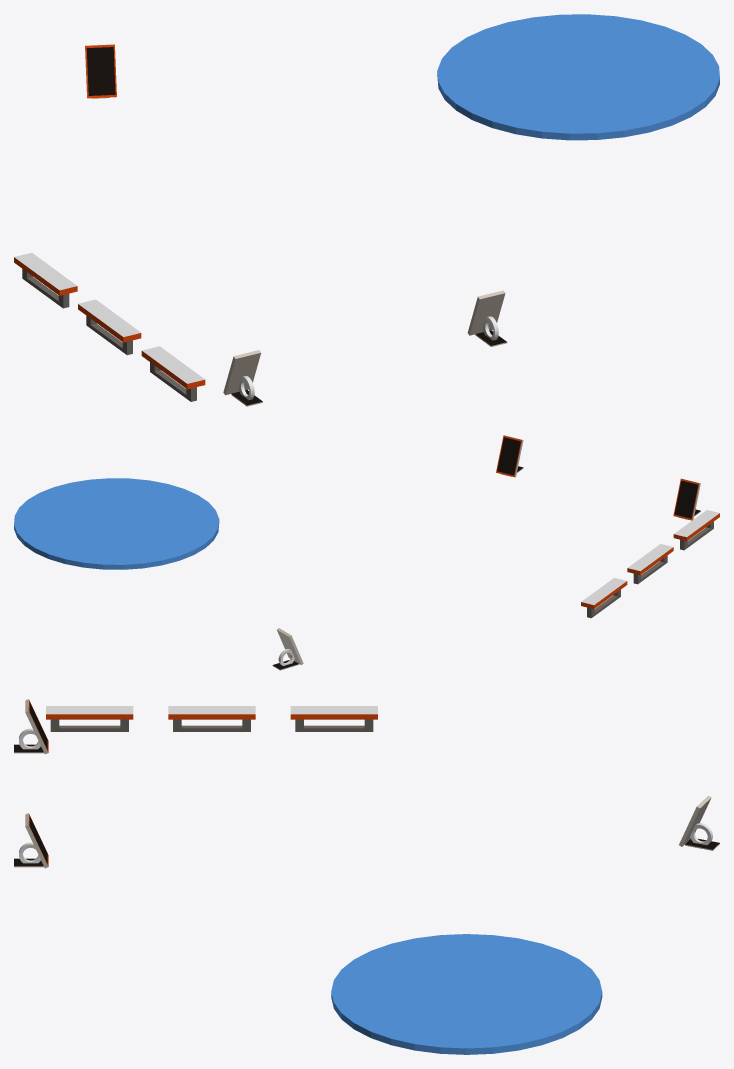
The model's file is pocter down.fbx.
The picture shows the model from 3 angles, top to bottom: view 1: azimuth 30°, elevation 25°; view 2: azimuth 150°, elevation 25°; view 3: azimuth 270°, elevation 25°; orthographic projection. The views are drawn at different scales.
Parts seen in each view (by area): view 1: Cylinder.077, Cube.433, Cube.074, Cube.436, Cube.062; view 2: Cylinder.077, Cube.433, Cube.436, Cube.062; view 3: Cylinder.077, Cube.433.
Boxes of the visible parts, <box> form: Cylinder.077: <box>437,14,719,140</box>; Cube.433: <box>14,252,205,401</box>; Cube.074: <box>85,44,116,98</box>; Cube.436: <box>467,290,505,335</box>; Cube.062: <box>223,350,260,395</box>; Cylinder.077: <box>14,478,219,569</box>; Cube.433: <box>581,510,719,618</box>; Cube.436: <box>496,435,523,477</box>; Cube.062: <box>673,478,700,520</box>; Cylinder.077: <box>331,934,602,1054</box>; Cube.433: <box>46,706,377,731</box>.
Size of the model in its own units: 3527 by 218 by 3071.
